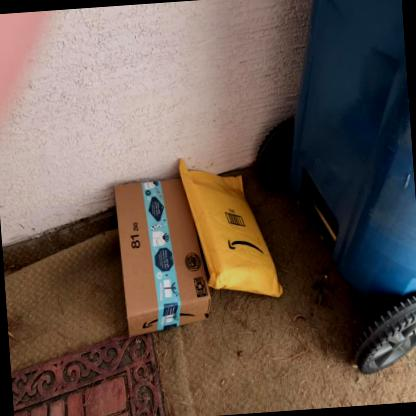box: (107, 181, 212, 334)
envelope: (176, 156, 284, 298)
